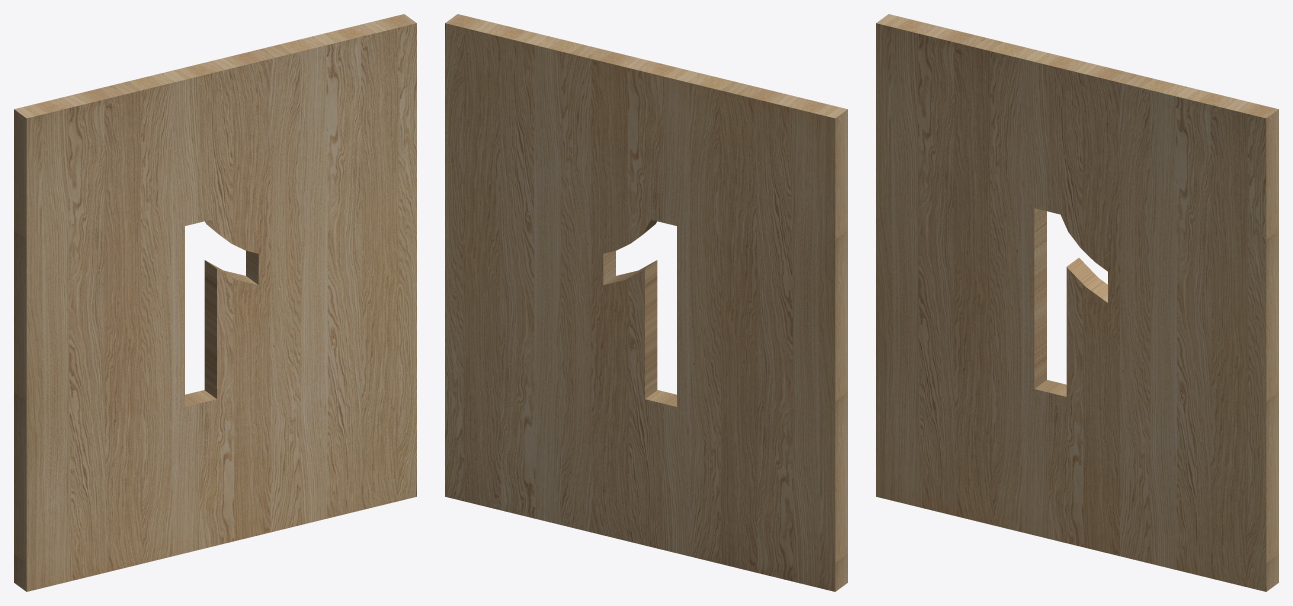
The picture shows the model from 3 angles, left to right: view 1: azimuth 30°, elevation 25°; view 2: azimuth 150°, elevation 25°; view 3: azimuth 330°, elevation 25°; orthographic projection.
Visible parts, largest first — view 1: so1; view 2: so1; view 3: so1.
Boxes of the visible parts, x1,y1,x2,y2 form: so1: [14, 14, 416, 591]; so1: [445, 14, 847, 591]; so1: [876, 14, 1278, 591].
Bounding box in the file's own units: 2.89 × 3.36 × 0.1618.
1 material, 1 textured.
